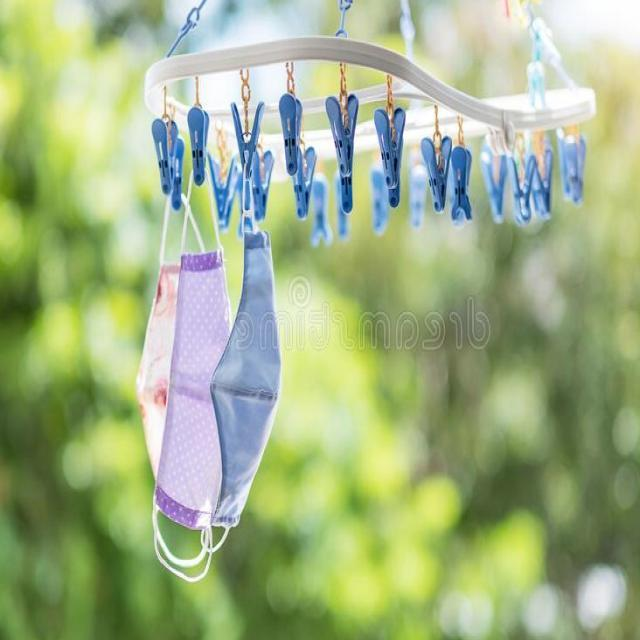clothes: (124, 232, 284, 580)
